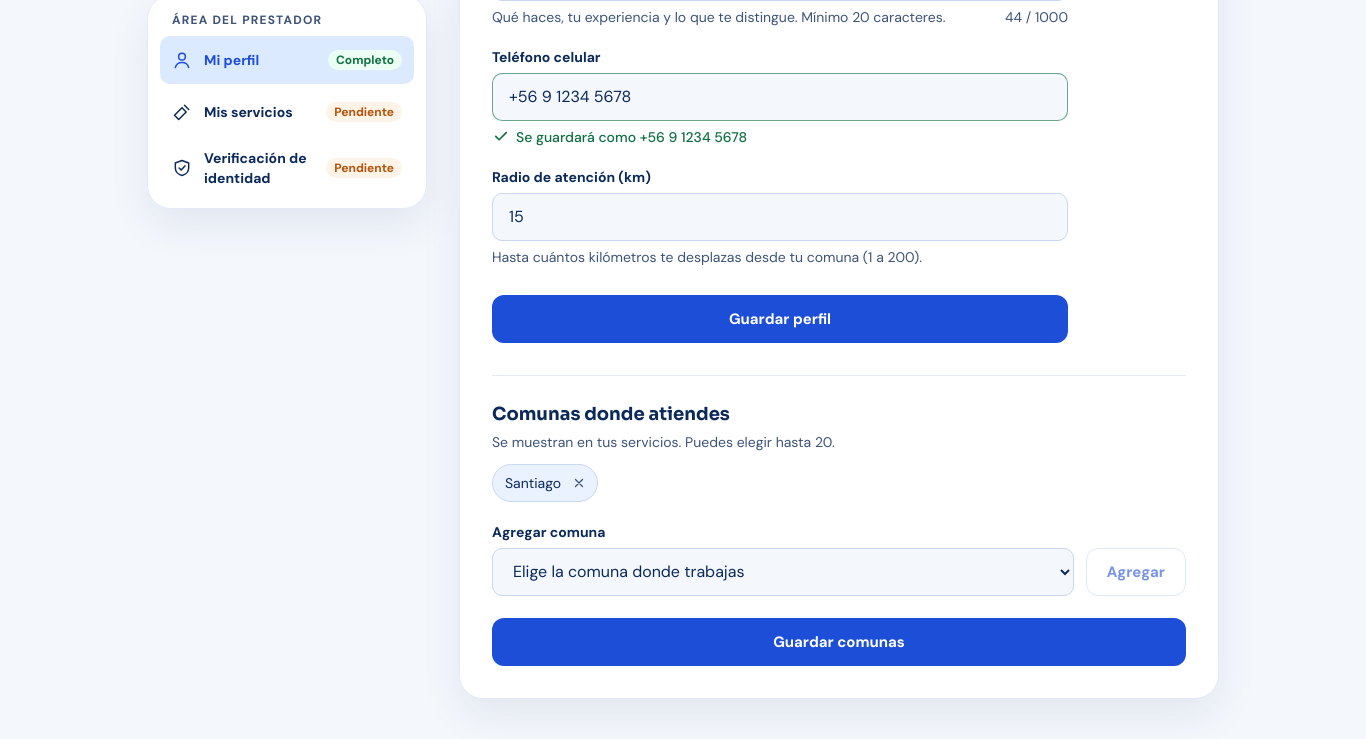
Scenario: Comunas de atención y servicios del prestador › agrega una comuna de atención y guarda la lista completa
(page scrolled)
Expected: the button named "quitar santiago" is shown, top-left (565, 469), bottom-right (593, 497)
Select "Las Condes" in the dropdown labelled "Agregar comuna" at x=783, y=572, box top-left (492, 548), bottom-right (1074, 596)
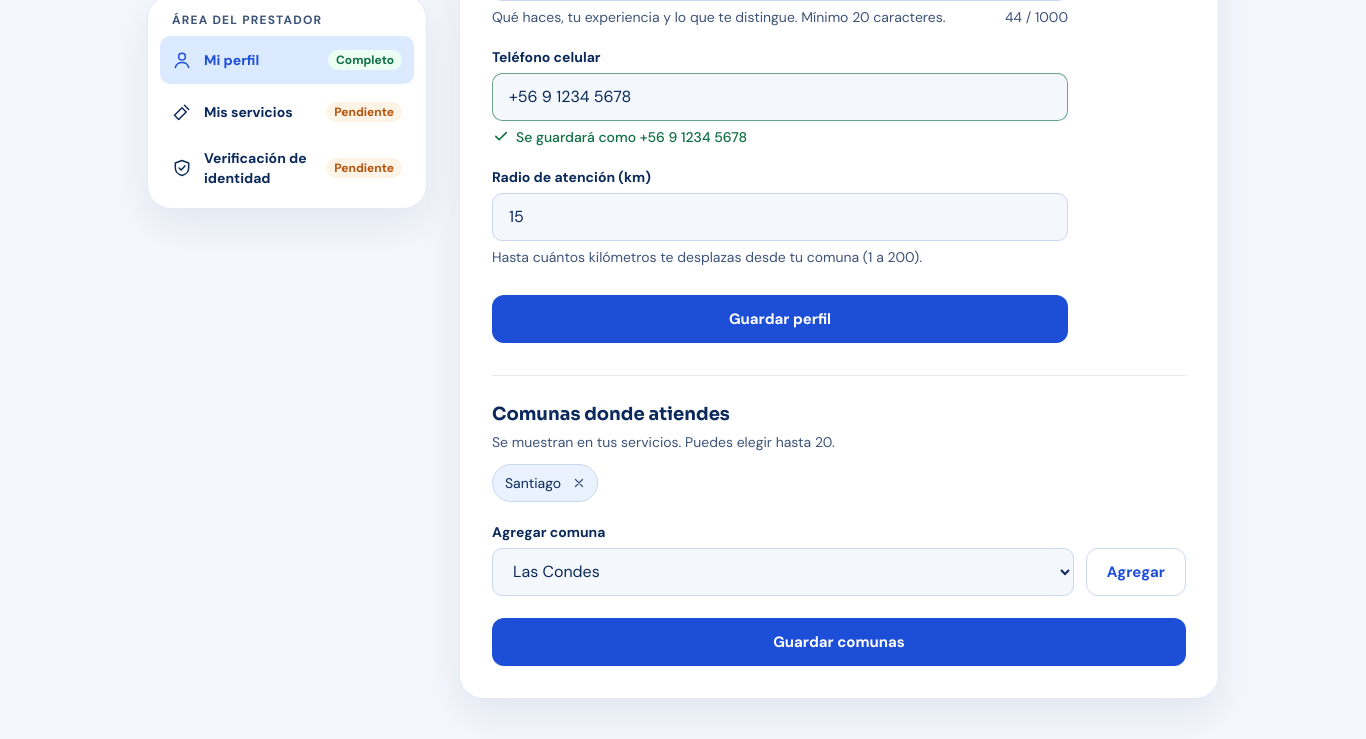
Click the button "Agregar" at x=1136, y=572, box top-left (1086, 548), bottom-right (1186, 596)
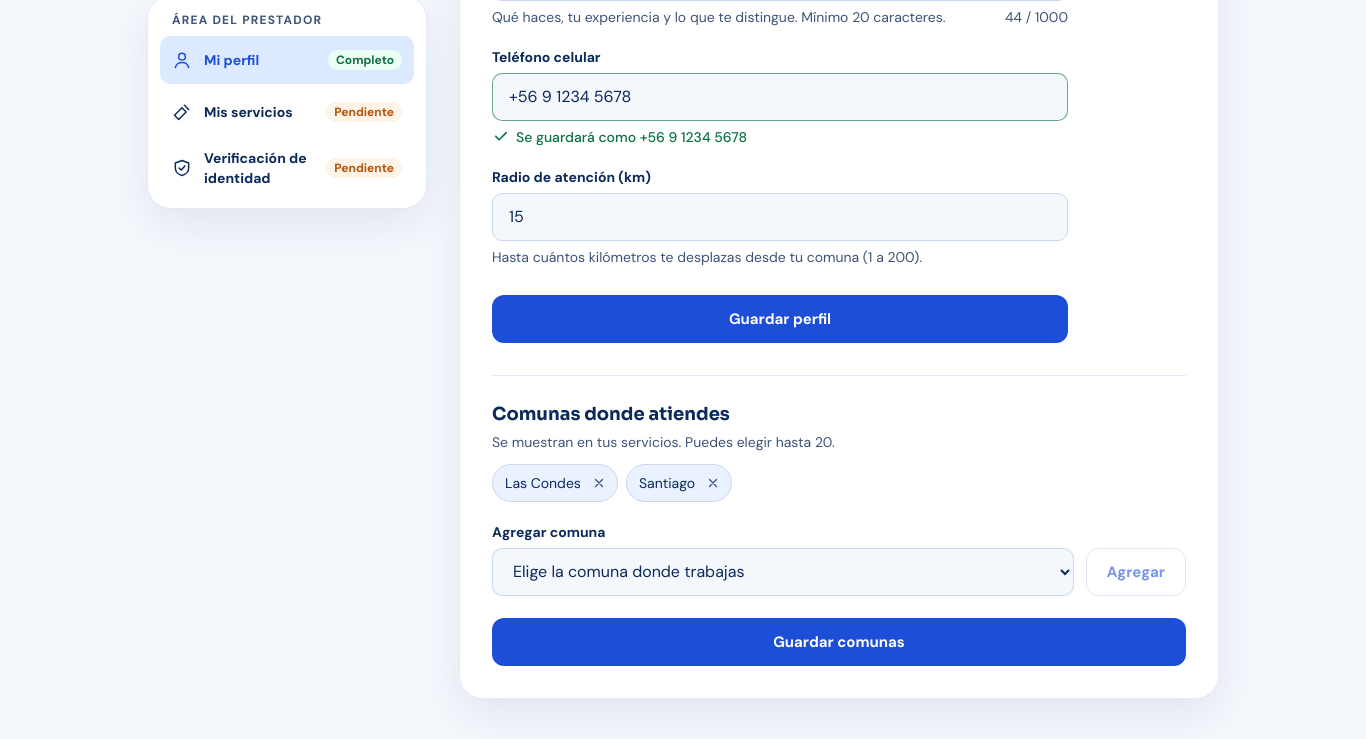
Click the button "Guardar comunas" at x=839, y=642, box top-left (492, 618), bottom-right (1186, 666)
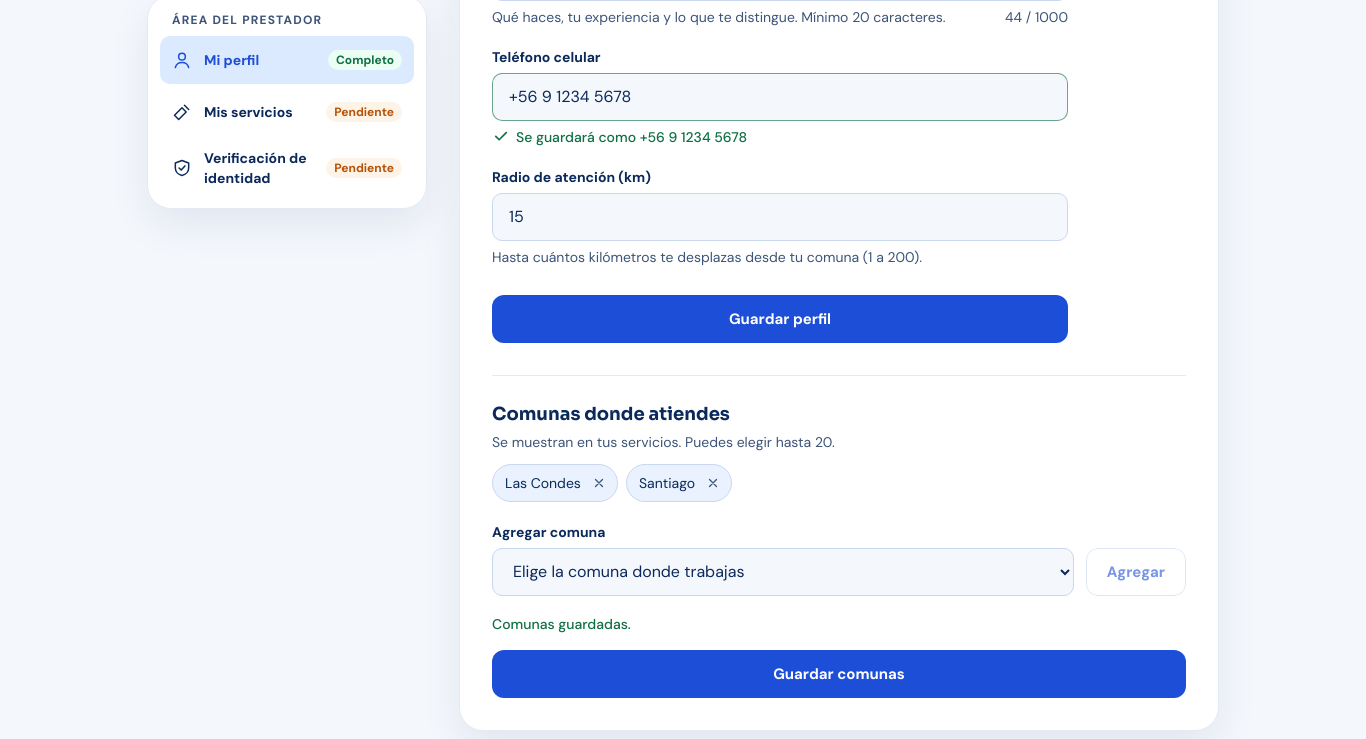
Result: the text "Comunas guardadas." is shown at top-left (492, 615), bottom-right (631, 633)
